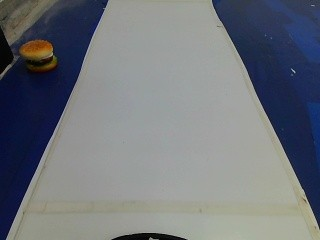burger: (14, 32, 58, 78)
